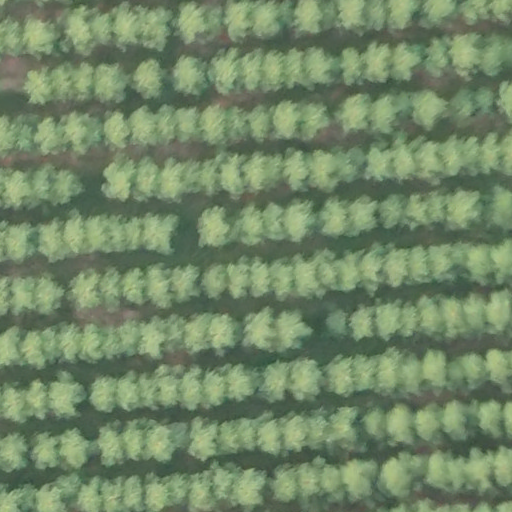eucalipto: (44, 370, 88, 421), (326, 406, 368, 455), (444, 186, 487, 231), (338, 456, 378, 502), (275, 307, 314, 354), (286, 356, 324, 403), (207, 47, 243, 96), (170, 367, 207, 414), (100, 154, 135, 203), (280, 196, 315, 244), (171, 53, 208, 98), (131, 56, 168, 101), (241, 305, 277, 351), (242, 152, 283, 192), (65, 111, 102, 155), (378, 456, 415, 500), (450, 32, 482, 82), (316, 196, 352, 240), (57, 426, 92, 471), (197, 202, 231, 248), (134, 314, 168, 360), (258, 359, 292, 405), (382, 403, 416, 449), (218, 364, 257, 404), (57, 15, 95, 56), (424, 448, 458, 493), (188, 413, 219, 462), (301, 42, 334, 88), (231, 468, 267, 510), (395, 348, 424, 400), (235, 201, 267, 248), (323, 352, 355, 399), (439, 397, 471, 444), (155, 155, 185, 205), (138, 8, 171, 53), (411, 91, 448, 131), (87, 372, 120, 416), (23, 376, 53, 424), (143, 424, 178, 465), (168, 263, 202, 305), (309, 149, 340, 195), (259, 200, 290, 246), (94, 61, 127, 104), (412, 140, 445, 183), (4, 220, 36, 264), (45, 167, 82, 205), (30, 275, 65, 315), (338, 92, 372, 133), (67, 268, 101, 309), (268, 463, 302, 504), (25, 17, 57, 60), (1, 382, 32, 426), (21, 65, 54, 106), (144, 259, 171, 309), (391, 40, 423, 82), (1, 169, 33, 211), (208, 311, 237, 357), (127, 105, 158, 148), (224, 1, 254, 45), (33, 117, 66, 157), (372, 349, 400, 396), (176, 5, 207, 47), (418, 348, 449, 390), (37, 215, 63, 265), (362, 41, 392, 84), (438, 297, 468, 340), (475, 397, 505, 440), (486, 344, 512, 393), (29, 430, 60, 471), (96, 422, 123, 469), (133, 155, 159, 203), (199, 104, 228, 147), (282, 150, 311, 193), (381, 246, 410, 289), (199, 263, 230, 303), (271, 100, 301, 141), (111, 10, 139, 53), (374, 303, 404, 343), (1, 431, 30, 472), (189, 471, 218, 512), (467, 243, 494, 287), (371, 93, 399, 135), (9, 274, 37, 316), (306, 404, 331, 451), (100, 264, 123, 315), (102, 110, 131, 150), (279, 413, 307, 454), (170, 106, 201, 143), (485, 290, 512, 332), (255, 417, 284, 456), (291, 1, 323, 36), (117, 370, 143, 413), (120, 419, 146, 462), (253, 2, 282, 40), (61, 212, 86, 256), (334, 253, 361, 293), (242, 48, 266, 92), (121, 265, 145, 309), (334, 1, 369, 31), (413, 405, 441, 442), (157, 364, 180, 409), (425, 36, 448, 80), (338, 45, 362, 87), (202, 369, 227, 409), (215, 419, 242, 456), (72, 58, 94, 103), (261, 49, 284, 92), (51, 61, 74, 104), (349, 304, 375, 342), (270, 261, 294, 302), (385, 1, 420, 29), (363, 147, 391, 182), (248, 105, 273, 144), (284, 47, 306, 91), (409, 241, 432, 283), (225, 263, 251, 300), (140, 370, 162, 412), (391, 144, 415, 182), (144, 481, 173, 512), (78, 473, 101, 512), (1, 19, 24, 57), (247, 263, 271, 299), (425, 1, 458, 26), (122, 474, 143, 512), (102, 476, 124, 512), (462, 1, 491, 28), (92, 14, 112, 47)
